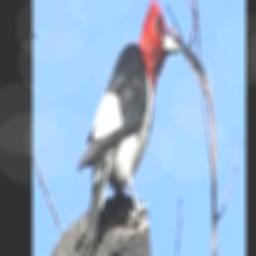Woodpecker: (78, 0, 181, 255)
